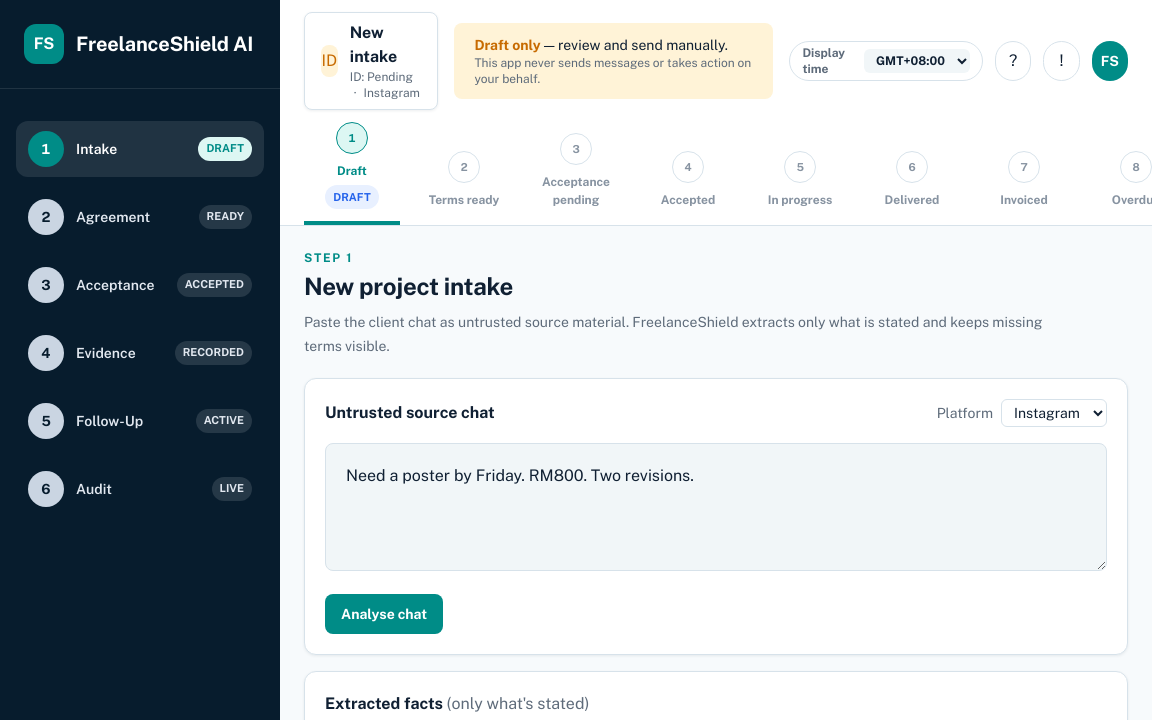
Test case: NewProjectPage › shows the intake workflow with safety context
The width and height of the screenshot is (1152, 720).
Check: the heading "New project intake" is shown, box [304, 272, 513, 300]
Check: the text "This app never sends messages or takes action on your behalf." is shown, box [474, 55, 753, 87]
What coordinates should you click on to do the following:
click the button "Analyse chat"
I would click on:
 (384, 614)
Its box is [325, 594, 443, 634].
(page scrolled)
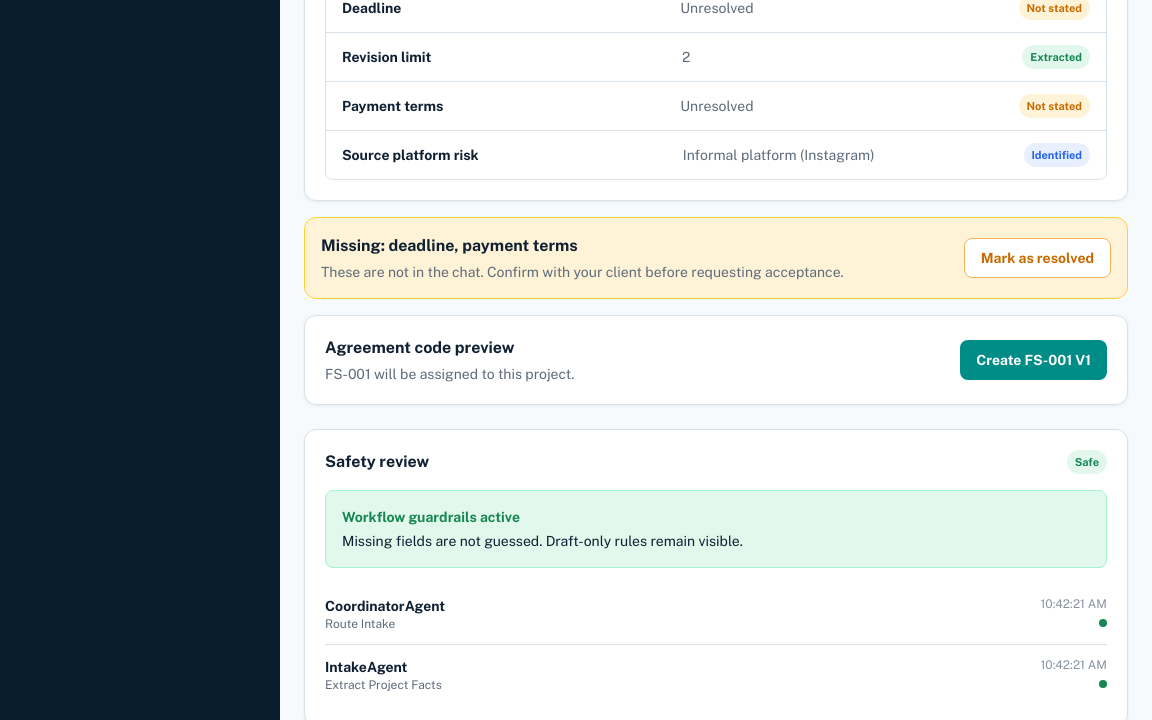
Check: the heading "Missing: deadline, payment terms" is shown, box [321, 236, 578, 255]
Check: the text "Informal platform (Instagram)" is shown, box [683, 147, 874, 163]
